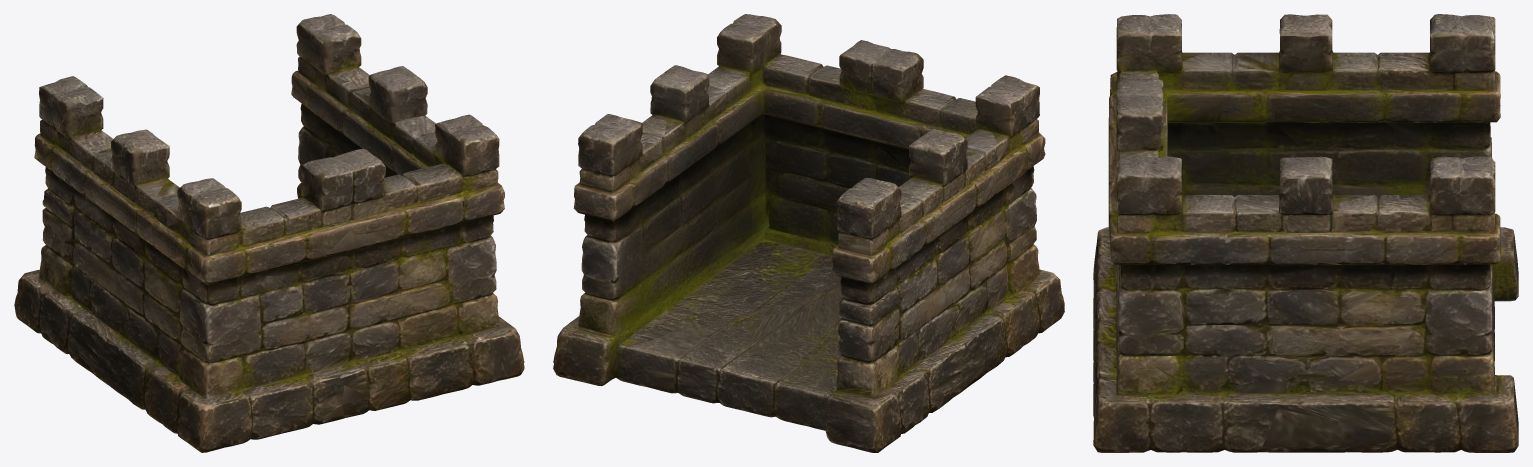
The picture shows the model from 3 angles, left to right: view 1: azimuth 30°, elevation 25°; view 2: azimuth 150°, elevation 25°; view 3: azimuth 270°, elevation 25°; orthographic projection. The views are drawn at different scales.
Parts seen in each view (by area): view 1: node_0; view 2: node_0; view 3: node_0.
Boxes of the visible parts, x1=… form: node_0: x1=14, y1=14, x2=524, y2=452; node_0: x1=553, y1=14, x2=1064, y2=452; node_0: x1=1093, y1=14, x2=1518, y2=452.
Size of the model in its own units: 0.7715 by 0.543 by 0.7717.
Materials: 1 (1 with a texture image).
